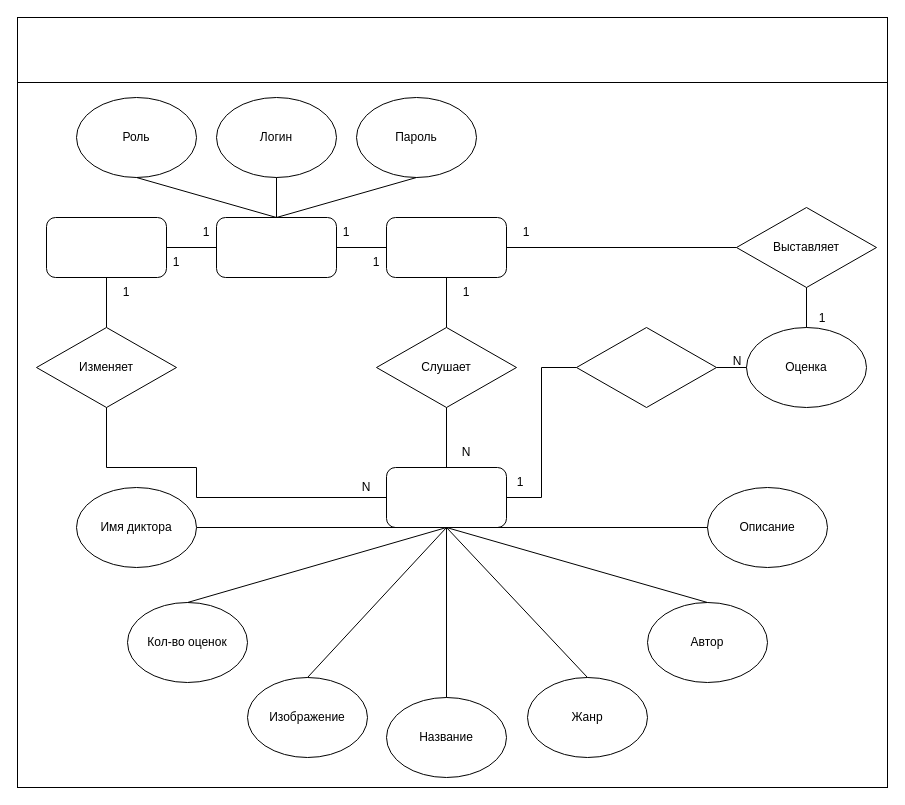
Some shapes in this 905 by 805 pixel diagram are drawn without their labels. The shapes that lost their labels are listed below. From the top down, each one's centre as x and y in pixels, then its label:
At (x=452, y=49): "ER диаграмма мобильного приложения для прослушивания аудиокниг".
At (x=106, y=247): "Администратор".
At (x=276, y=247): "Аккаунт".
At (x=446, y=247): "Пользователь".
At (x=646, y=367): "Содержит".
At (x=446, y=497): "Аудиокнига".
